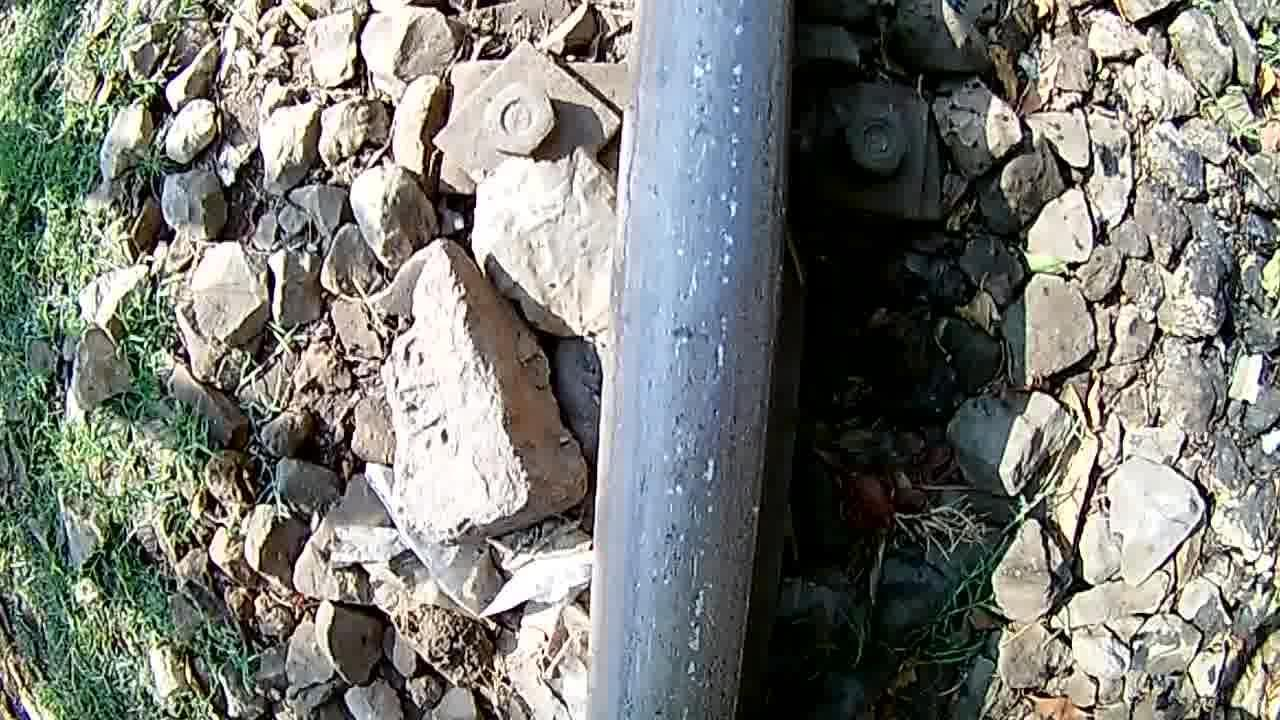crack: (584, 2, 804, 720)
